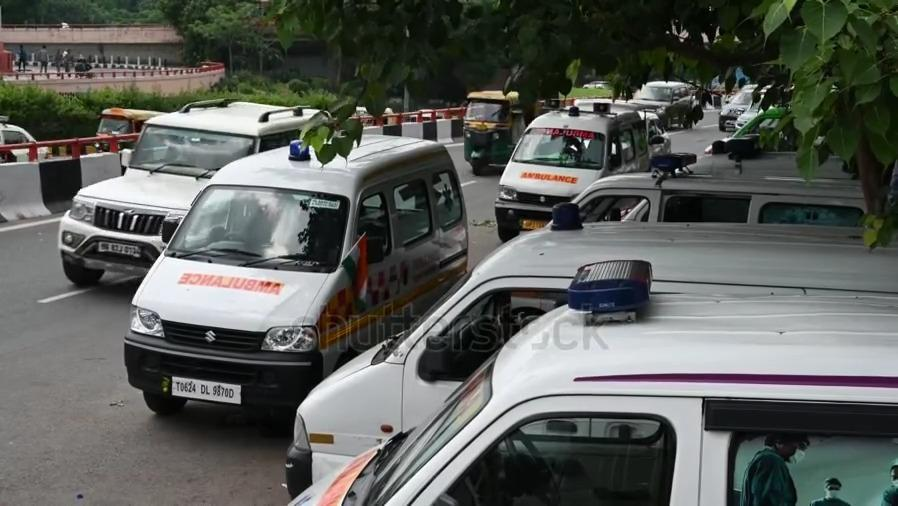Ambulance: (173, 271, 287, 297), (516, 169, 580, 187)
